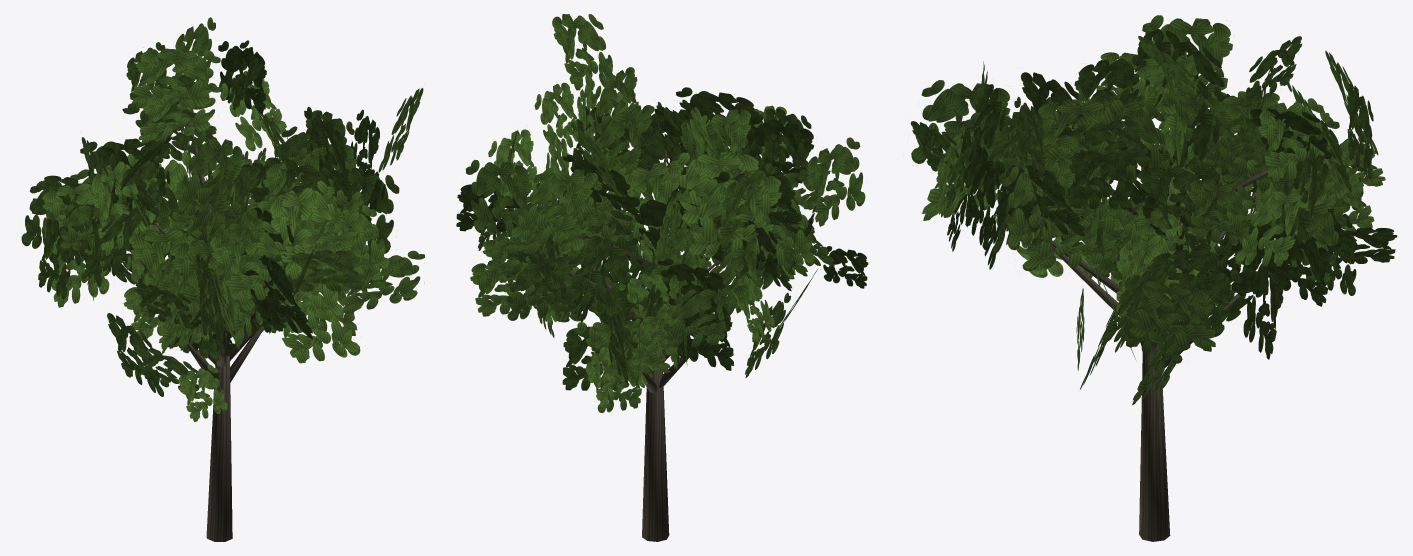
File: broadleaf-tree.glb
The picture shows the model from 3 angles, left to right: view 1: azimuth 30°, elevation 25°; view 2: azimuth 150°, elevation 25°; view 3: azimuth 270°, elevation 25°; orthographic projection. The views are drawn at different scales.
Visible parts, largest first — view 1: wind foliage, branch; view 2: wind foliage, branch; view 3: wind foliage, branch.
Boxes of the visible parts, bbox=[...] form: wind foliage: bbox=[21, 17, 424, 421]; branch: bbox=[206, 302, 232, 541]; wind foliage: bbox=[456, 14, 868, 412]; branch: bbox=[642, 352, 669, 541]; wind foliage: bbox=[910, 15, 1397, 405]; branch: bbox=[1139, 264, 1170, 541].
Bounding box in the file's own units: 4.88 × 6.44 × 5.73.
Materials: 2 (2 with a texture image).
